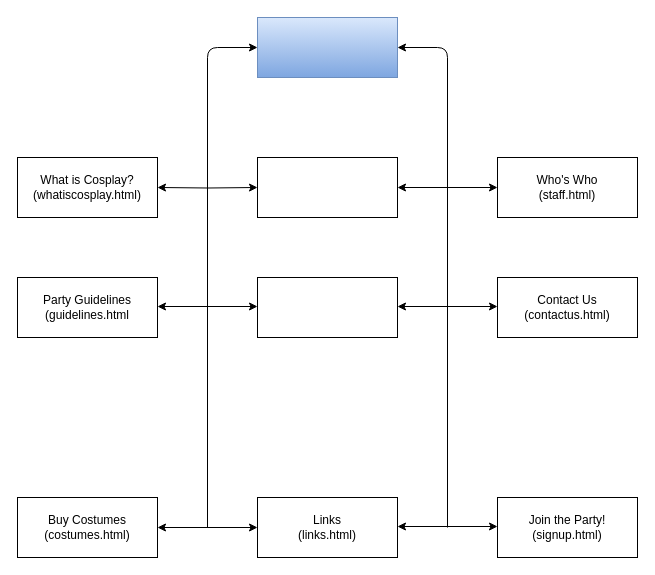
This 655x575 diagram has some shape labels left out. Here are the shapes that lost their labels. From the top down, the centre of each, then its label:
At point (327, 47): "Home (index.html)".
At point (327, 187): "About Us (aboutus.html)".
At point (327, 307): "Announcements (announcements.html)".
